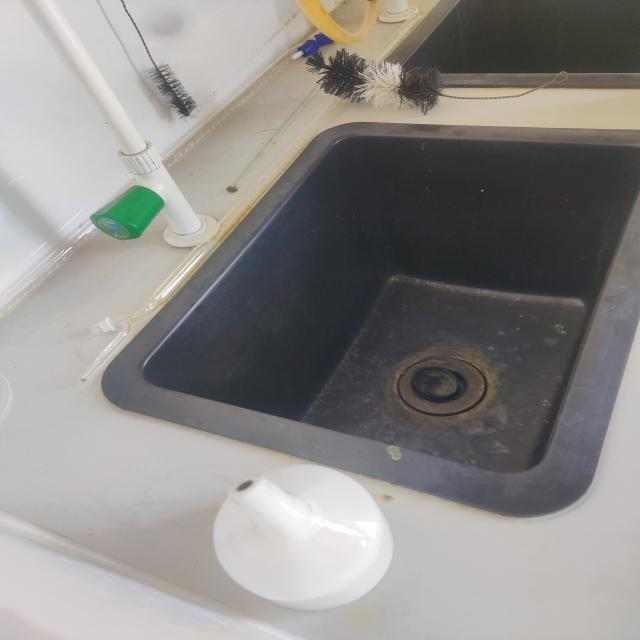Buchner_Funnel: (154, 428, 435, 622)
